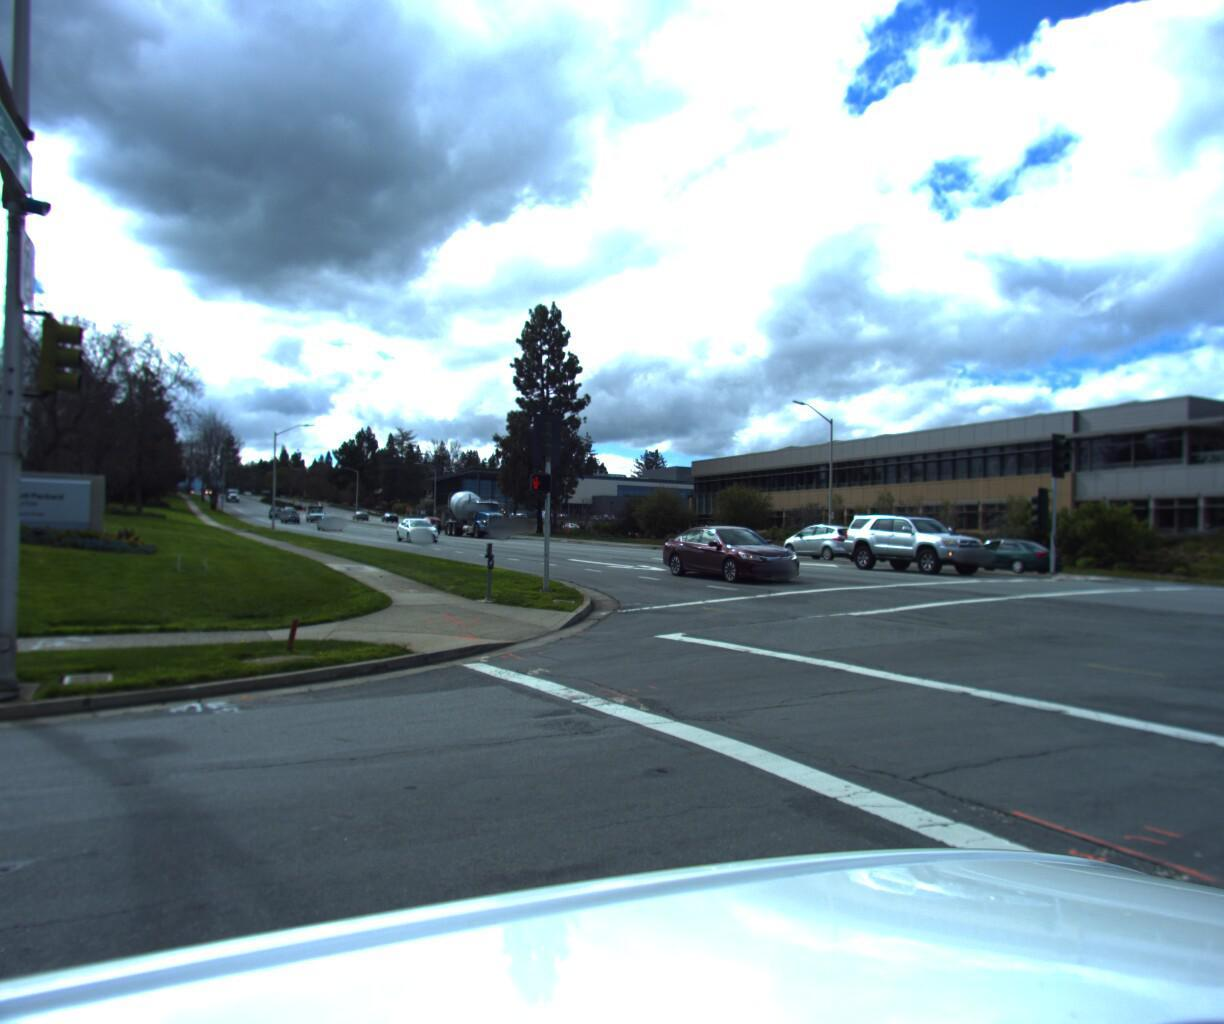car: (822, 513, 984, 579), (654, 530, 802, 589), (943, 542, 1066, 582), (773, 527, 869, 567), (393, 525, 441, 551), (319, 524, 347, 541)
other_vehicle: (431, 491, 522, 545)
